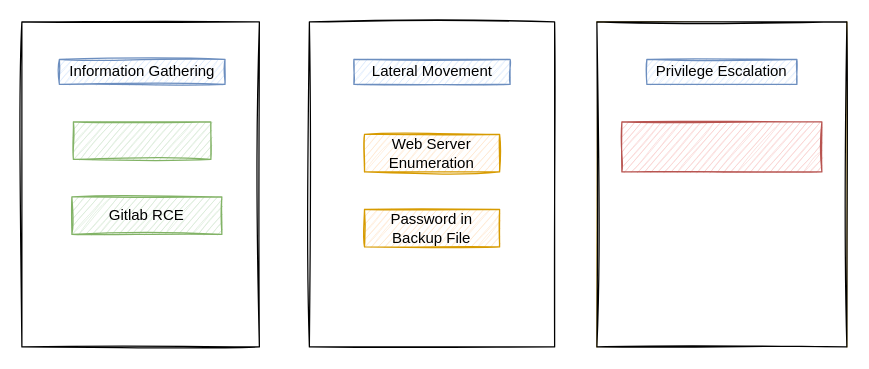
This 869x369 diagram has some shape labels left out. Each missing label, with the box of its shape:
Docker Mount: (621, 121, 822, 172)
Web Enumeration: (72, 121, 211, 159)
